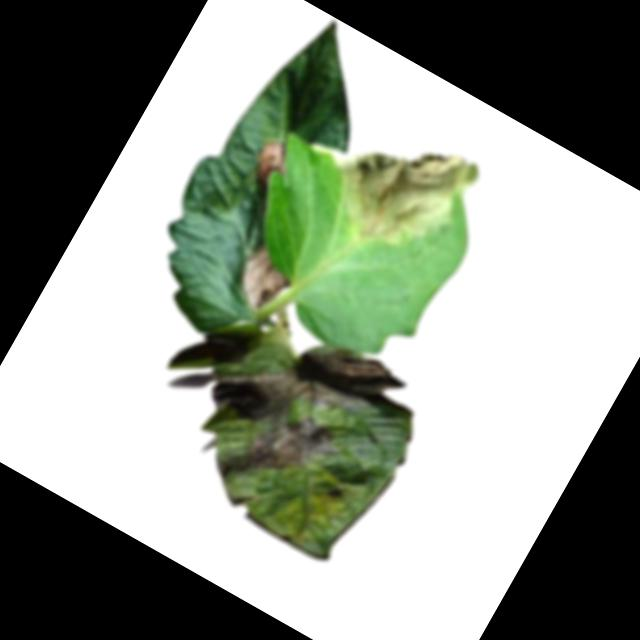Late_blight: (177, 300, 437, 551), (306, 97, 486, 272), (223, 238, 299, 321), (244, 130, 300, 190)
